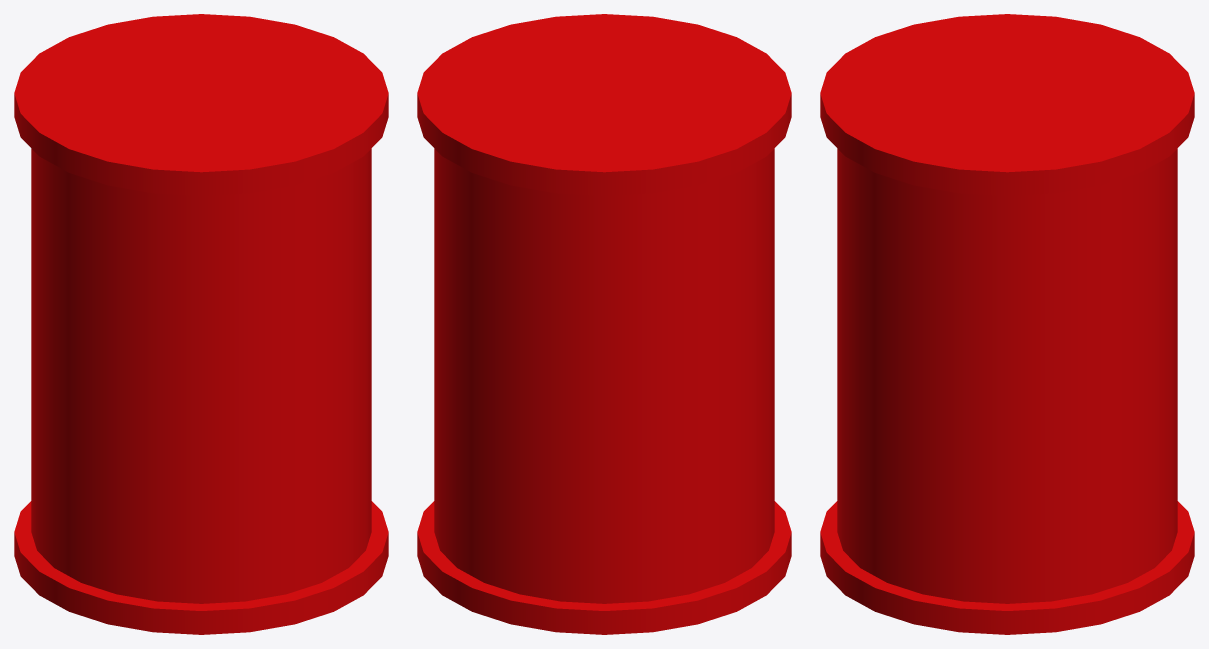
Rendered from barrel.fbx.
The picture shows the model from 3 angles, left to right: view 1: azimuth 30°, elevation 25°; view 2: azimuth 150°, elevation 25°; view 3: azimuth 270°, elevation 25°; orthographic projection.
Parts seen in each view (by area): view 1: Cylinder; view 2: Cylinder; view 3: Cylinder.
Boxes of the visible parts, x1=… form: Cylinder: x1=14, y1=14, x2=388, y2=634; Cylinder: x1=417, y1=14, x2=791, y2=634; Cylinder: x1=820, y1=14, x2=1194, y2=634.
Bounding box in the file's own units: 220 × 300 × 220.
